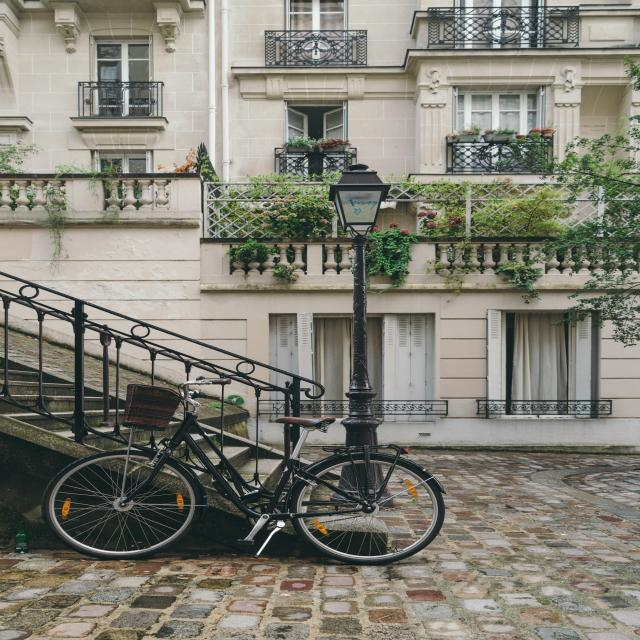Street Light: (322, 163, 401, 506)
